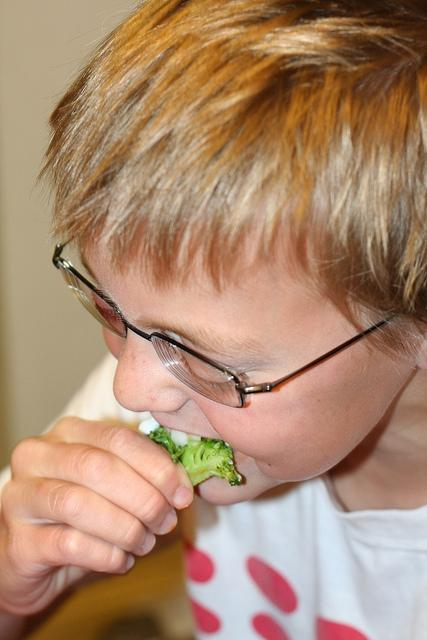broccoli: (147, 424, 242, 486)
